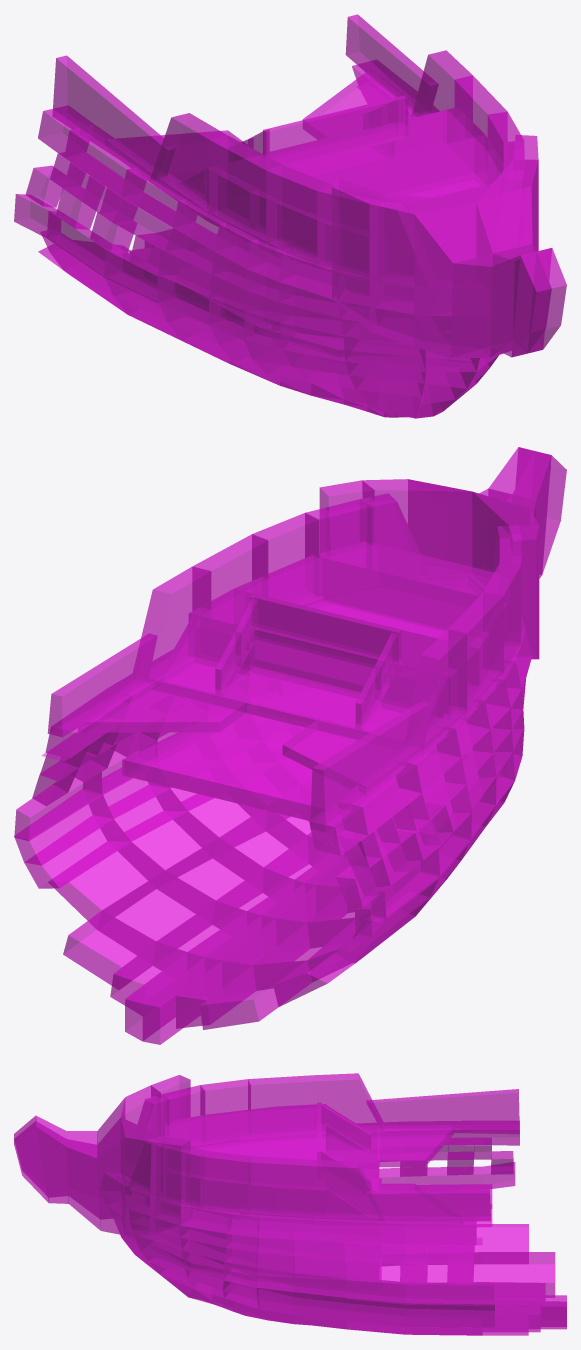
Rendered from SM_Prop_Wreck_Large_Front_01_Collision.fbx.
The picture shows the model from 3 angles, top to bottom: view 1: azimuth 30°, elevation 25°; view 2: azimuth 150°, elevation 25°; view 3: azimuth 270°, elevation 25°; orthographic projection. The views are drawn at different scales.
Parts seen in each view (by area): view 1: SM_Prop_Wreck_Large_Front_01_Collision; view 2: SM_Prop_Wreck_Large_Front_01_Collision; view 3: SM_Prop_Wreck_Large_Front_01_Collision.
Part boxes in pixels (x1,y1,x2,y2): SM_Prop_Wreck_Large_Front_01_Collision: (14,14,566,418); SM_Prop_Wreck_Large_Front_01_Collision: (14,447,566,1044); SM_Prop_Wreck_Large_Front_01_Collision: (14,1073,566,1335).
Bounding box in the file's own units: 1316 × 1075 × 2488.
